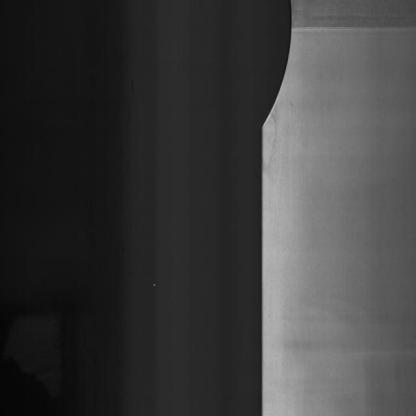crescent_gap: (251, 0, 302, 136)
